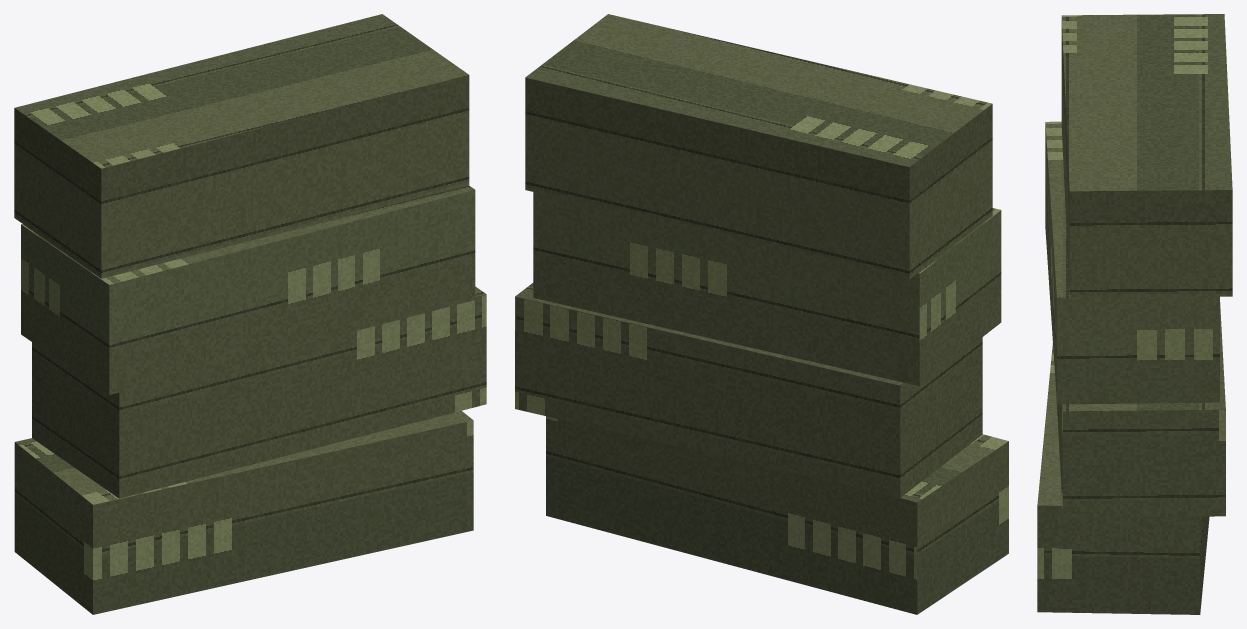
The model's file is fb_ammo_crate_stack.glb.
3 views of the same model, side by side, from view 1: azimuth 30°, elevation 25°; view 2: azimuth 150°, elevation 25°; view 3: azimuth 270°, elevation 25° (orthographic). The views are drawn at different scales.
Visible parts, largest first — view 1: fb_ammo_crate_stack; view 2: fb_ammo_crate_stack; view 3: fb_ammo_crate_stack.
Part boxes in pixels (x1,y1,x2,y2): fb_ammo_crate_stack: [14, 14, 486, 614]; fb_ammo_crate_stack: [515, 14, 1008, 614]; fb_ammo_crate_stack: [1037, 14, 1232, 614].
Size of what is drawn, in the model's own units: 0.9841 by 1.04 by 0.4312.
1 material, 1 textured.
